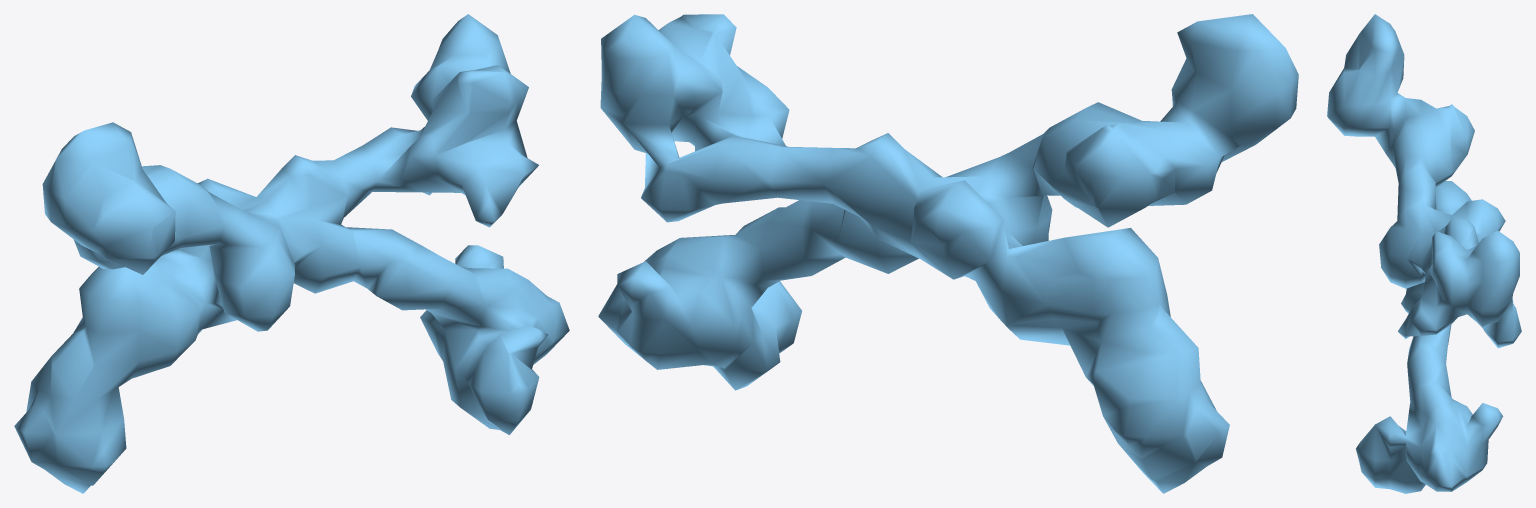
Rendered from Vesicle_167and174dimers10needHighPriorityAligned.dae.
3 renders of one model, left to right at view 1: azimuth 30°, elevation 25°; view 2: azimuth 150°, elevation 25°; view 3: azimuth 270°, elevation 25°, orthographic. The views are drawn at different scales.
Parts seen in each view (by area): view 1: vesicle_MeshVes167Mesh; view 2: vesicle_MeshVes167Mesh; view 3: vesicle_MeshVes167Mesh.
Part boxes in pixels (x1,y1,x2,y2): vesicle_MeshVes167Mesh: (14, 14, 569, 493); vesicle_MeshVes167Mesh: (598, 14, 1298, 493); vesicle_MeshVes167Mesh: (1327, 14, 1521, 493).
Bounding box in the file's own units: 256 × 182 × 101.
